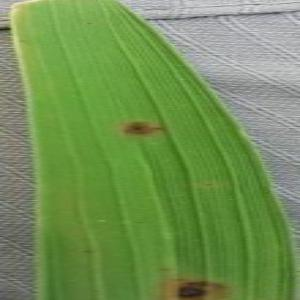Brown_Spot: (116, 114, 171, 141), (170, 283, 210, 300), (191, 275, 228, 293), (79, 245, 100, 258), (198, 179, 216, 191), (131, 217, 149, 229), (82, 17, 97, 28), (156, 266, 174, 274), (171, 276, 188, 284), (15, 37, 29, 46)
